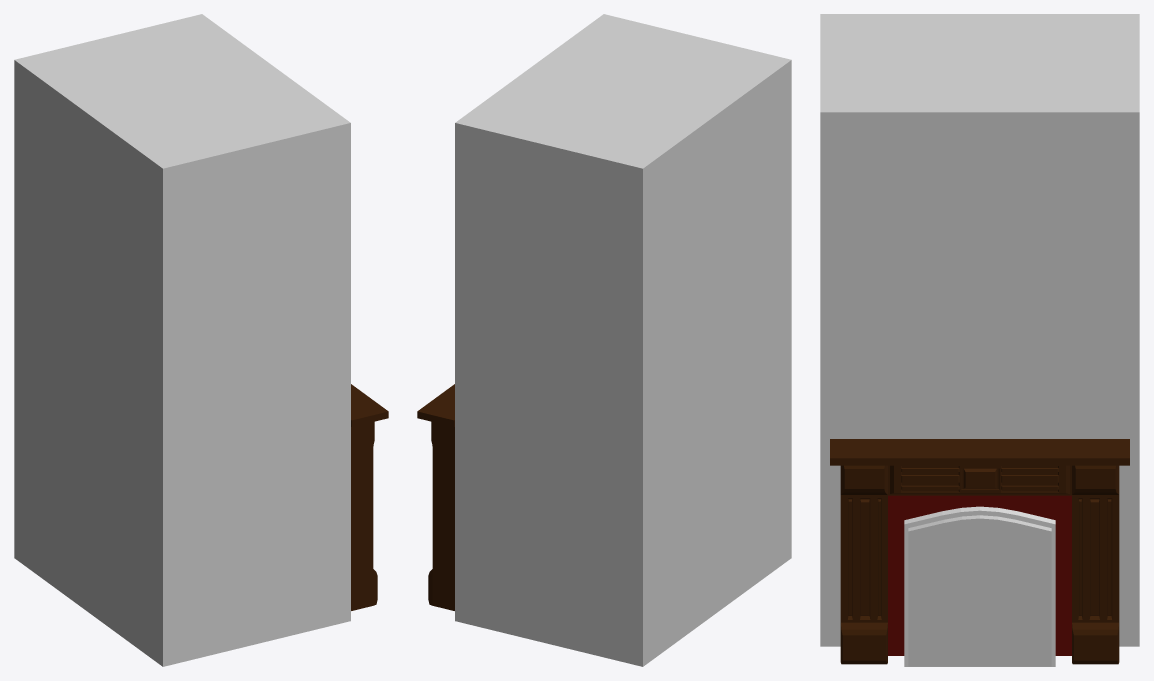
Rendered from kominek.fbx.
3 renders of one model, left to right at view 1: azimuth 30°, elevation 25°; view 2: azimuth 150°, elevation 25°; view 3: azimuth 270°, elevation 25°, orthographic. The views are drawn at different scales.
Parts seen in each view (by area): view 1: Kostka.006, Cube, Kostka.001; view 2: Kostka.006, Cube, Kostka.001; view 3: Kostka.006, Kostka.005, Cube, Kostka.001, Kostka.002, Kostka, Kostka.004.
Part boxes in pixels (x1,y1,x2,y2): Kostka.006: (14, 14, 350, 666); Cube: (351, 421, 377, 610); Kostka.001: (351, 384, 388, 426); Kostka.006: (455, 14, 791, 666); Cube: (428, 421, 454, 610); Kostka.001: (417, 384, 454, 426); Kostka.006: (820, 14, 1139, 646); Kostka.005: (908, 515, 1051, 666); Cube: (840, 465, 1119, 664); Kostka.001: (830, 439, 1129, 465); Kostka.002: (888, 495, 1071, 655); Kostka: (888, 465, 1071, 495); Kostka.004: (904, 506, 1055, 666).
Size of the model in its own units: 259 by 543 by 290.
